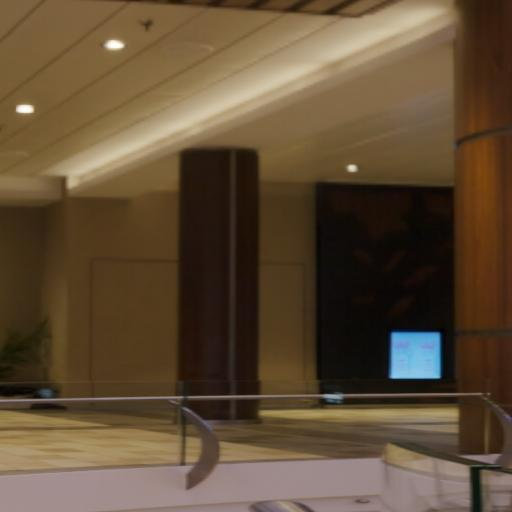U: (2, 2, 512, 512)
